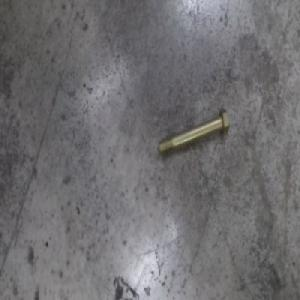Bolt: (158, 106, 229, 158)
